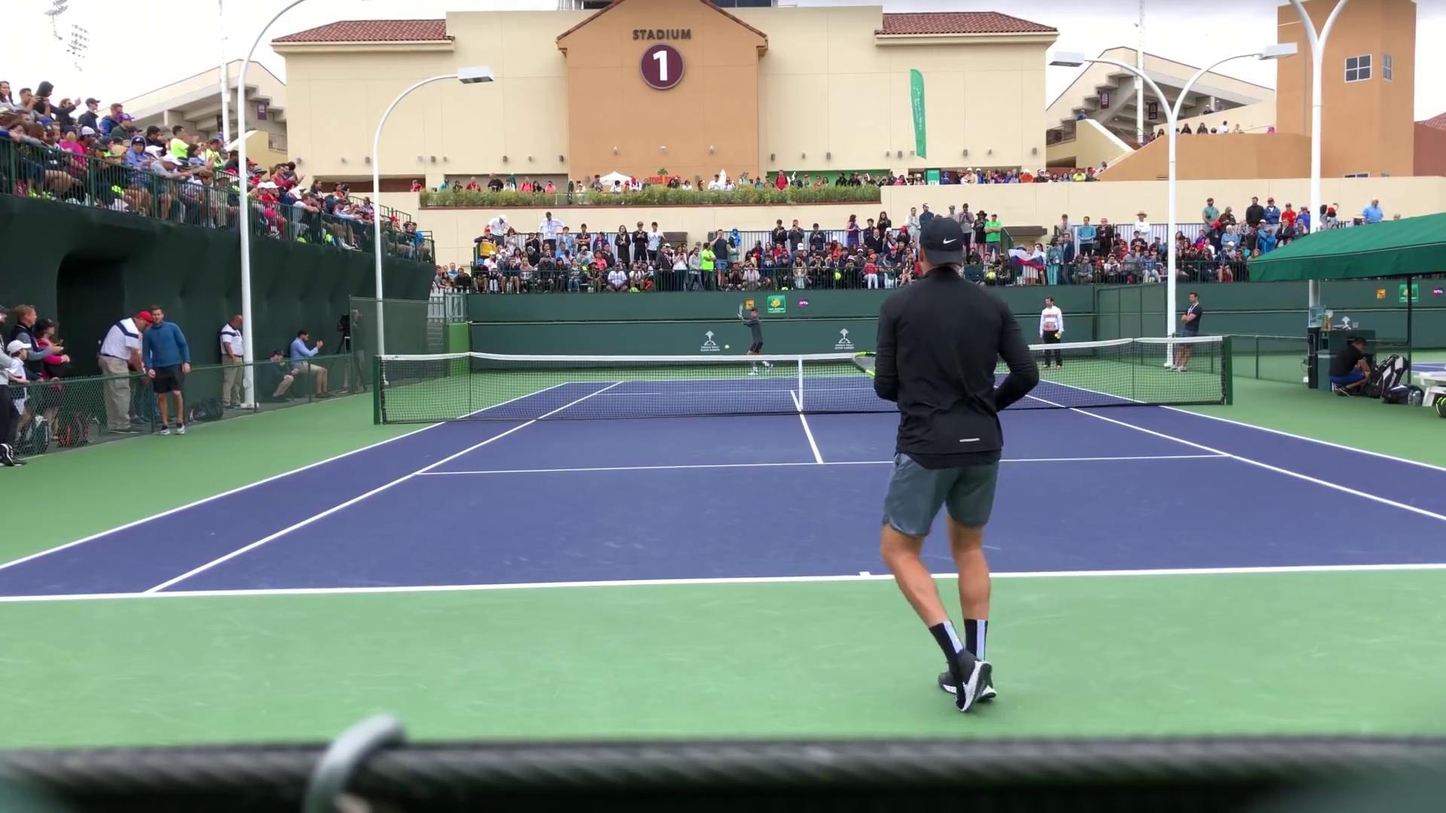ball: (723, 343, 730, 350)
